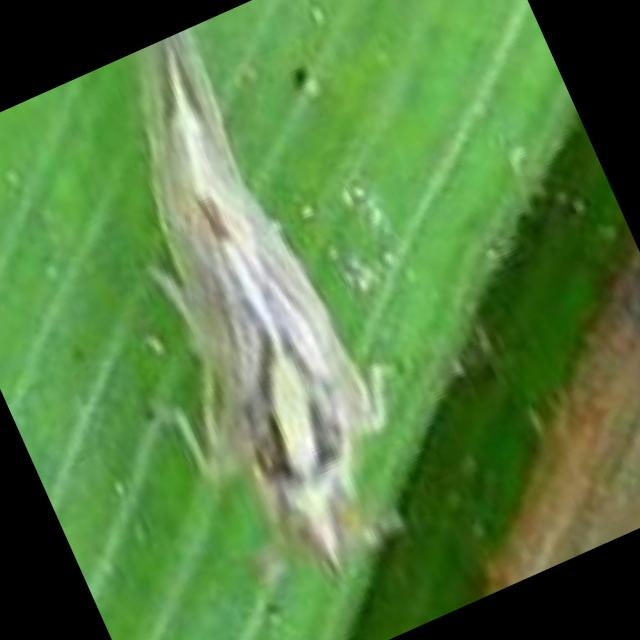brown-planthopper: (64, 17, 450, 600)
